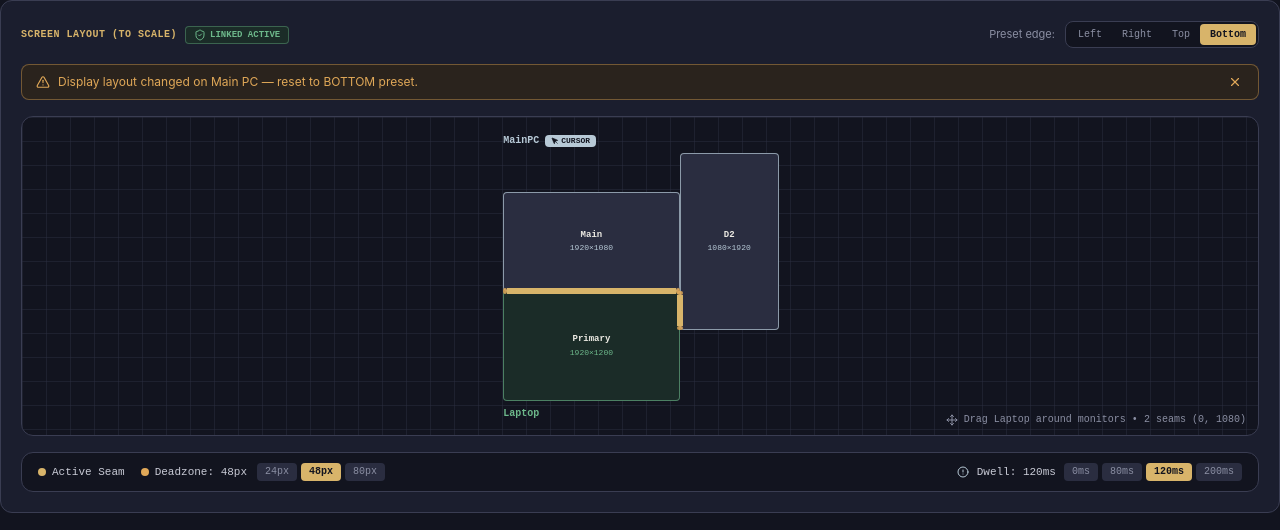
Test: TopologyCanvas (SPEC-24) › displays and dismisses the monitor-change notice
The width and height of the screenshot is (1280, 530).
Check: the message "Display layout changed on Main PC — reset to BOTTOM preset." is shown, box [21,64,1259,100]
Click the button named "Dismiss monitor change notice". click: (1235,82)
box: [1226,73,1244,91]
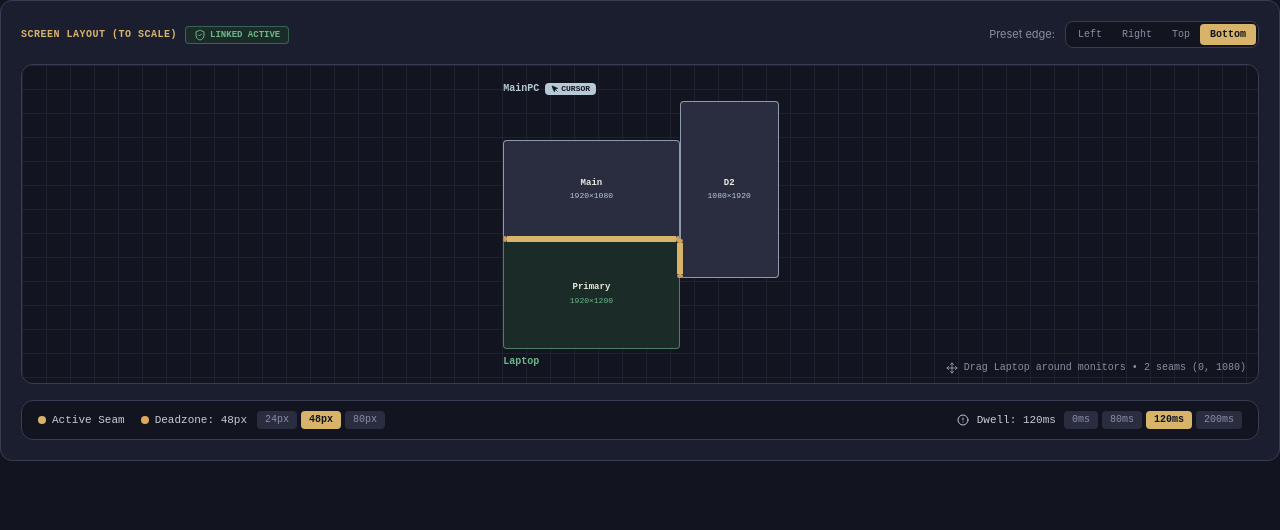
Check: the message "Display layout changed on Main PC — reset to BOTTOM preset." is gone
